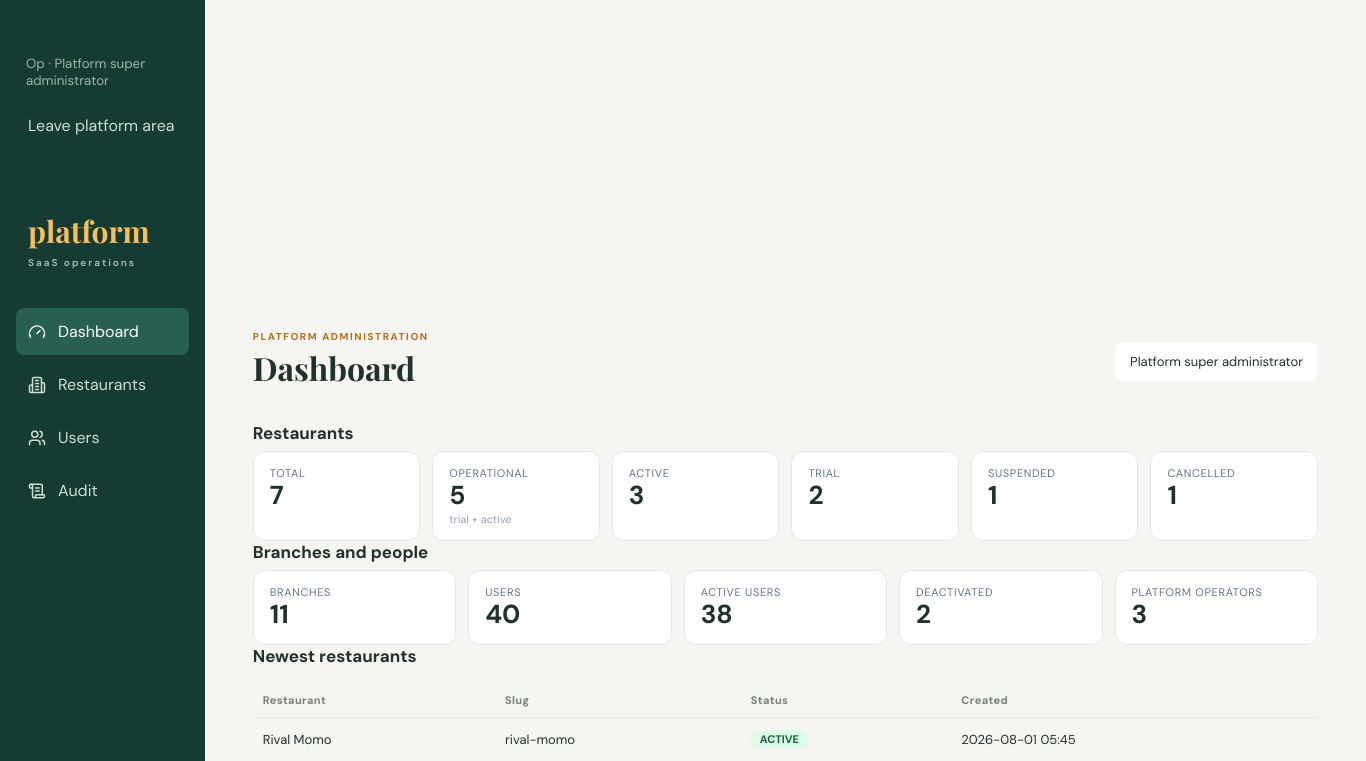
Test: P2B UI · restaurants › offers lifecycle controls to an operator who may use them
(page scrolled)
Click the button "Restaurants" at (102, 384), box [16,361,189,408]
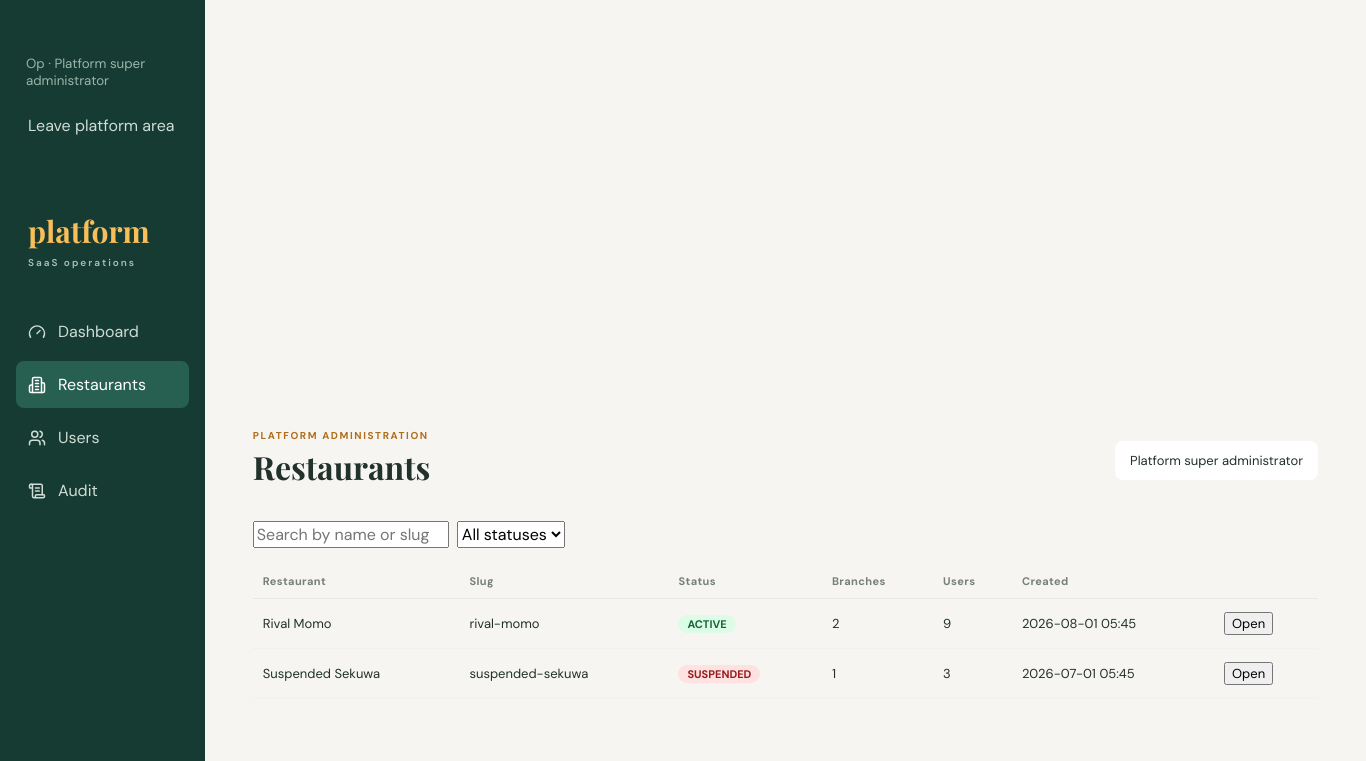
Click the 1st button "Open" at (1248, 624), box [1224,612,1273,635]
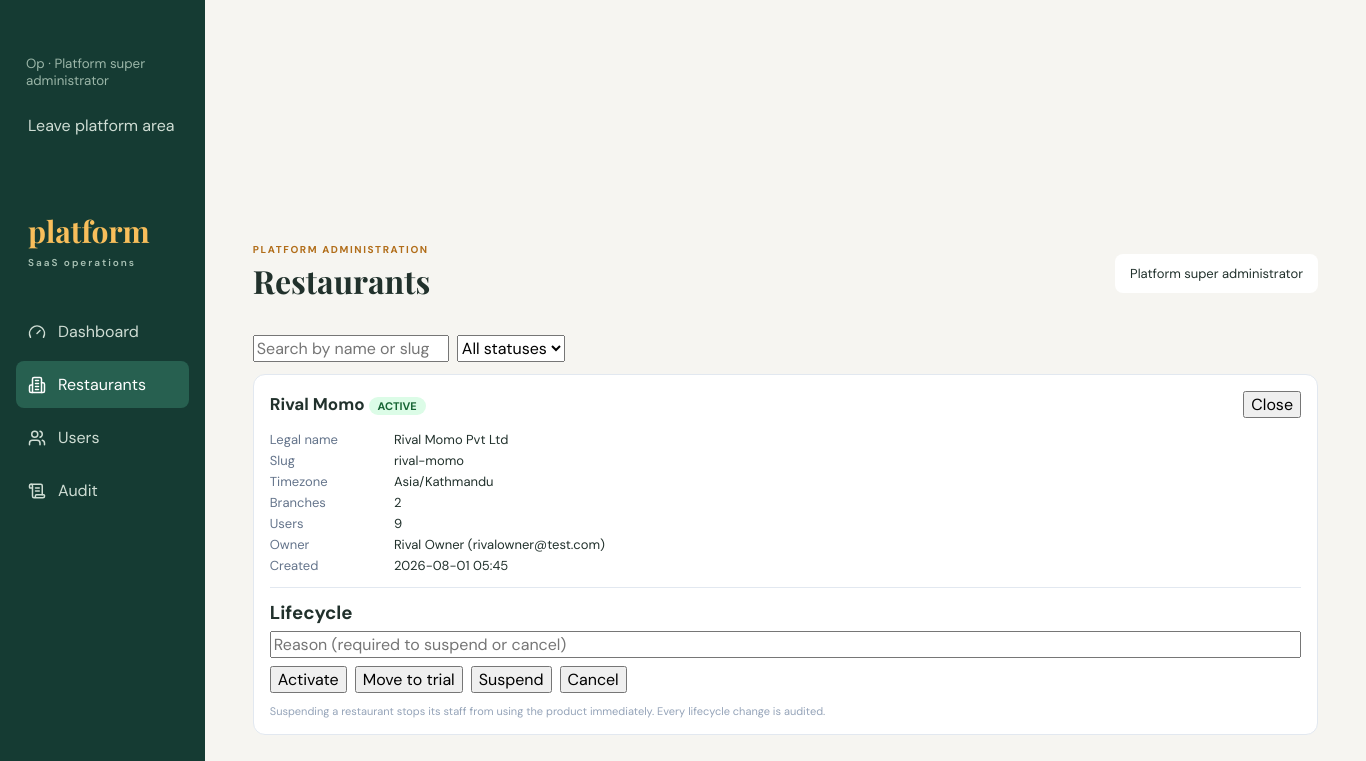
Expected: the button "Suspend" is shown, [471,666,552,692]
Expected: the button "Activate" is shown, [270,666,347,692]
Expected: the text "Rival Owner" is shown, [394,536,605,552]
